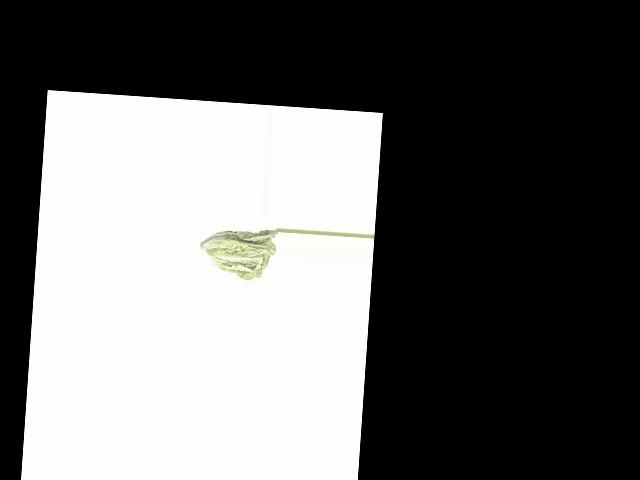lettuce: (199, 225, 277, 284)
